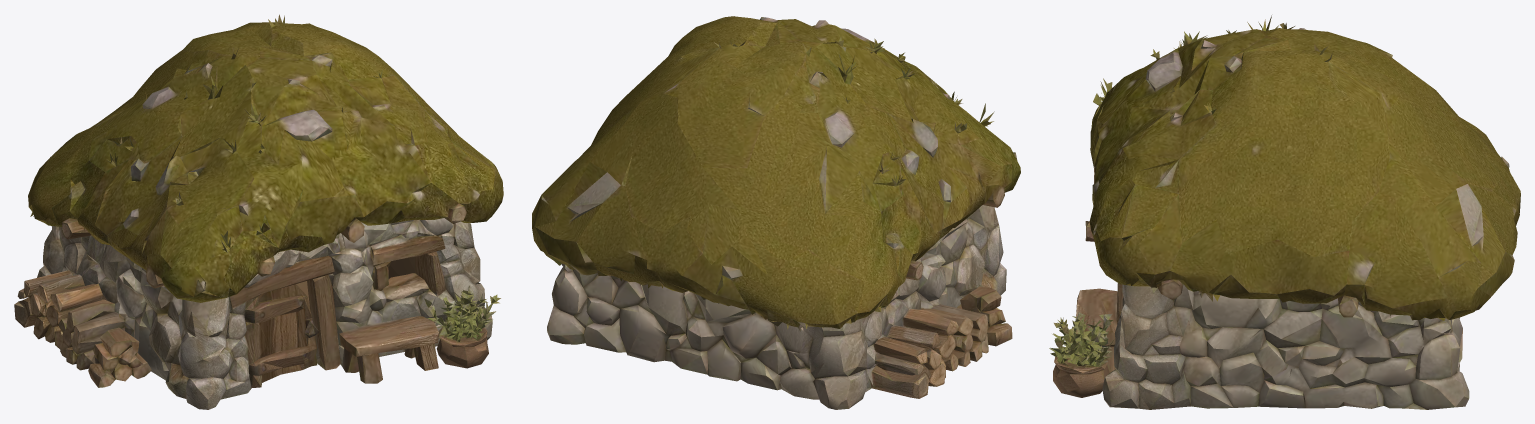
Rendered from poi_hermit.glb.
3 views of the same model, side by side, from view 1: azimuth 30°, elevation 25°; view 2: azimuth 150°, elevation 25°; view 3: azimuth 270°, elevation 25° (orthographic). The views are drawn at different scales.
Visible parts, largest first — view 1: poi_hermit; view 2: poi_hermit; view 3: poi_hermit.
Part boxes in pixels (x1,y1,x2,y2): poi_hermit: (14, 14, 503, 409); poi_hermit: (532, 16, 1020, 409); poi_hermit: (1049, 15, 1520, 409).
Size of the model in its own units: 5.92 by 4.22 by 6.
Materials: 1 (1 with a texture image).
